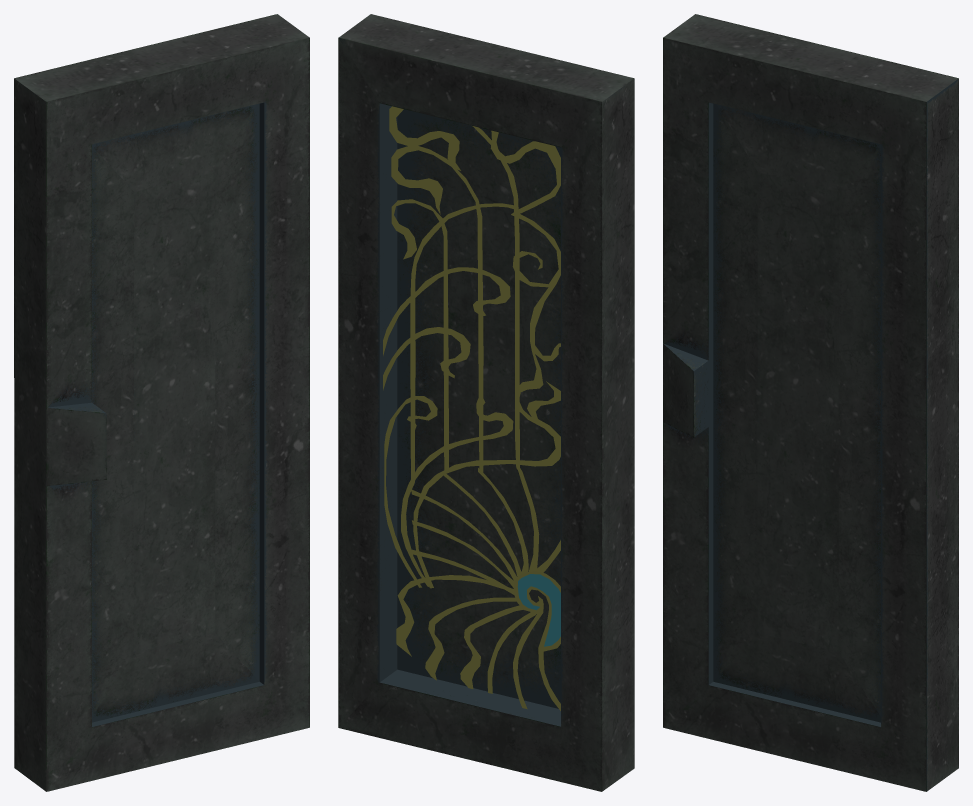
The model's file is Door_GrandEntrance.fbx.
3 views of the same model, side by side, from view 1: azimuth 30°, elevation 25°; view 2: azimuth 150°, elevation 25°; view 3: azimuth 330°, elevation 25° (orthographic).
Parts seen in each view (by area): view 1: DoorTX; view 2: DoorTX, PolyShape; view 3: DoorTX.
Part boxes in pixels (x1,y1,x2,y2): DoorTX: (14,14,309,791); DoorTX: (338,14,634,791); PolyShape: (383,106,560,710); DoorTX: (663,14,958,791).
Bounding box in the file's own units: 200 × 500 × 61.95.
